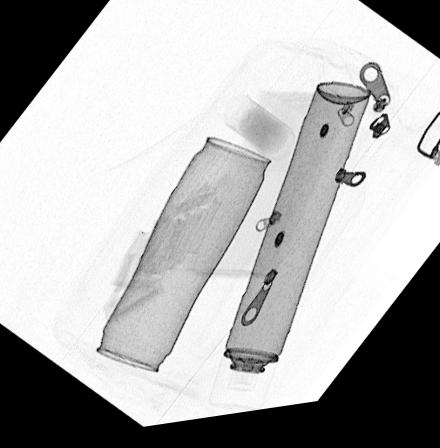Sprayer: (209, 90, 373, 419)
